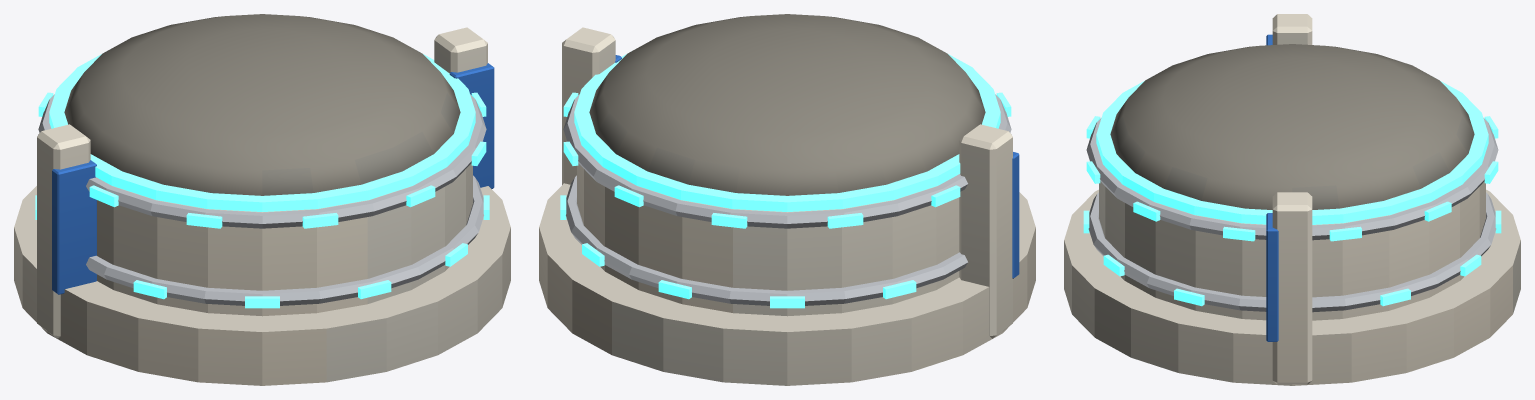
Rendered from reservepsy.glb.
3 renders of one model, left to right at view 1: azimuth 30°, elevation 25°; view 2: azimuth 150°, elevation 25°; view 3: azimuth 270°, elevation 25°, orthographic. The views are drawn at different scales.
Parts seen in each view (by area): view 1: reservepsy, psyband_1, psyband_0; view 2: reservepsy, psyband_1, psyband_0; view 3: reservepsy, psyband_1, psyband_0.
Boxes of the visible parts, x1,y1,x2,y2 form: reservepsy: [14, 14, 510, 385]; psyband_1: [38, 92, 486, 228]; psyband_0: [35, 175, 489, 308]; reservepsy: [539, 14, 1035, 385]; psyband_1: [563, 92, 1011, 228]; psyband_0: [560, 175, 967, 308]; reservepsy: [1064, 14, 1520, 385]; psyband_1: [1086, 116, 1498, 241]; psyband_0: [1083, 192, 1501, 312].
Size of the model in its own units: 1.87 by 0.9168 by 1.84.
